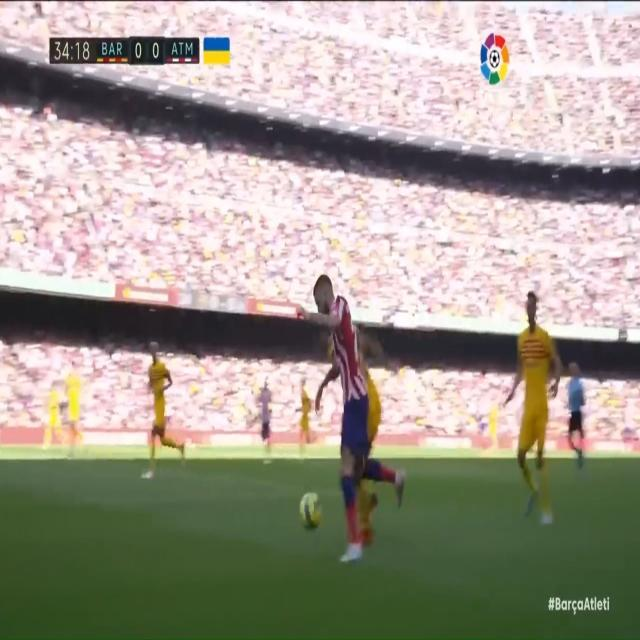ball: (295, 477, 324, 530)
player: (305, 244, 409, 581), (498, 277, 563, 532), (135, 323, 189, 487), (64, 352, 90, 466), (35, 373, 63, 459), (254, 366, 276, 455)
referee: (563, 345, 591, 478)
